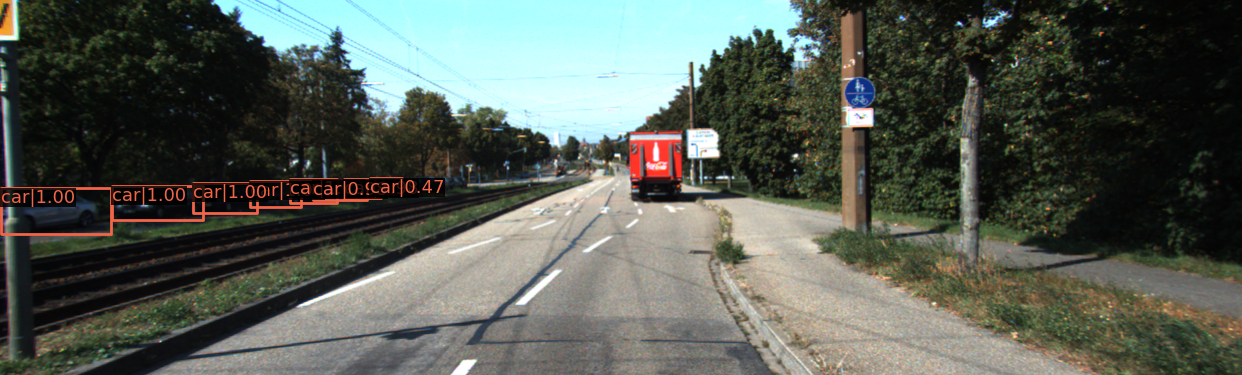car: (1, 191, 106, 236), (114, 185, 207, 220), (195, 185, 257, 214), (247, 182, 301, 207), (323, 179, 361, 200)
